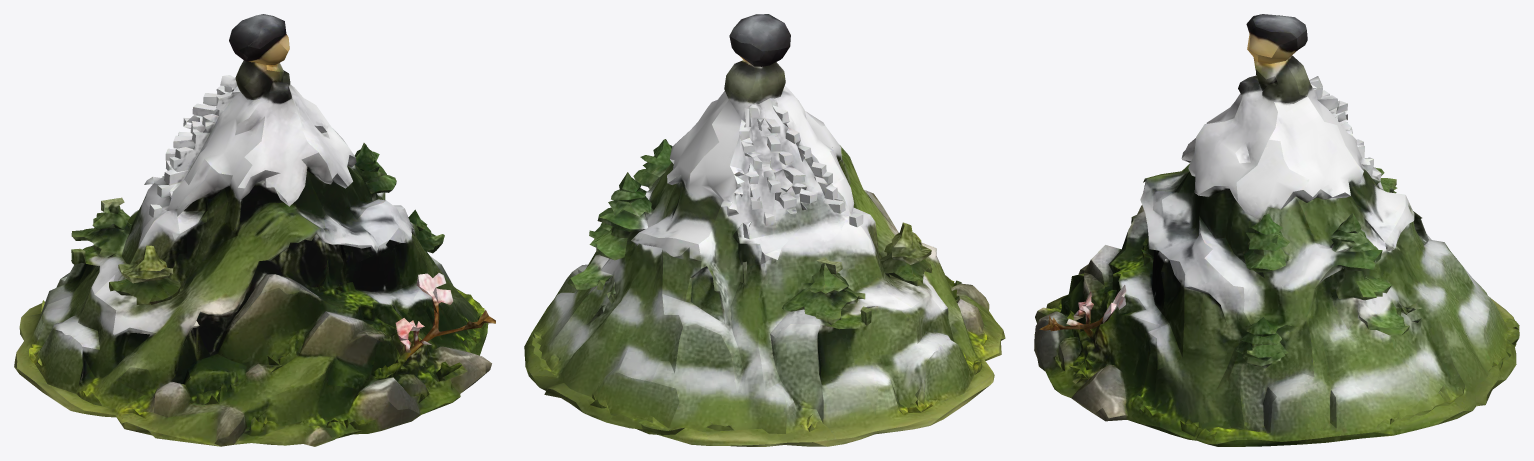
Rendered from summit.glb.
The picture shows the model from 3 angles, left to right: view 1: azimuth 30°, elevation 25°; view 2: azimuth 150°, elevation 25°; view 3: azimuth 270°, elevation 25°; orthographic projection. The views are drawn at different scales.
Visible parts, largest first — view 1: geometry_0; view 2: geometry_0; view 3: geometry_0.
Boxes of the visible parts, x1,y1,x2,y2 form: geometry_0: (14, 14, 495, 446); geometry_0: (524, 14, 1005, 446); geometry_0: (1034, 14, 1519, 446).
Bounding box in the file's own units: 0.198 × 0.15 × 0.1974.
1 material, 1 textured.
